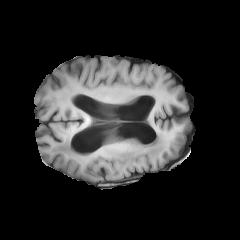glioma: (50, 135, 165, 181)
